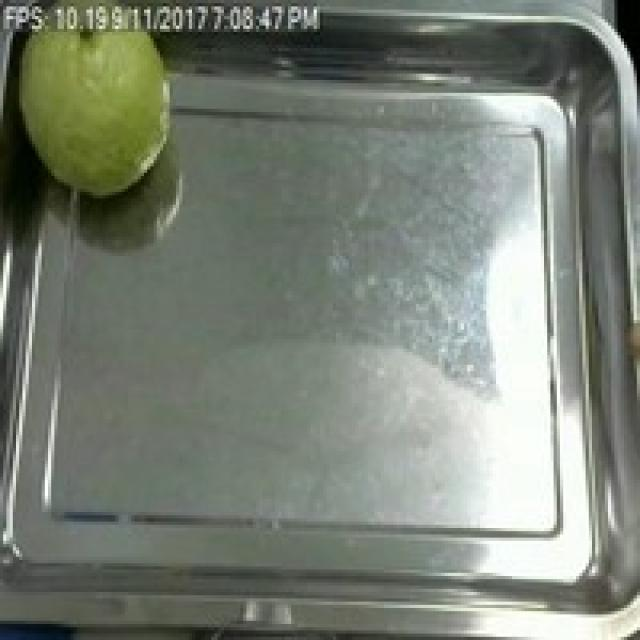Fruit: (3, 0, 186, 211)
